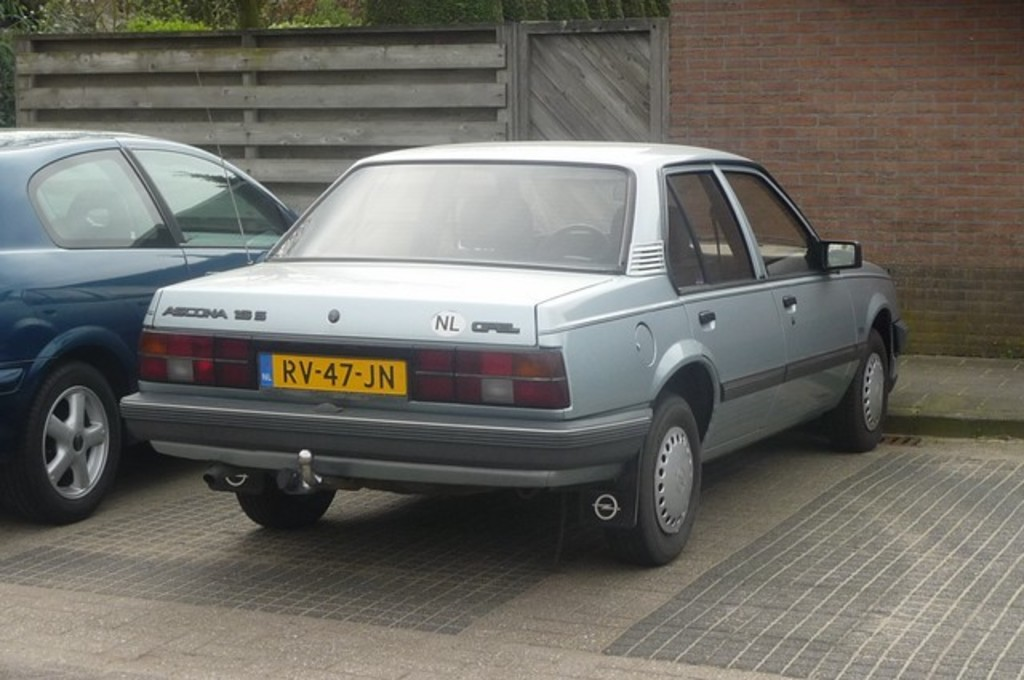Car: (116, 137, 912, 574), (0, 127, 304, 524)
